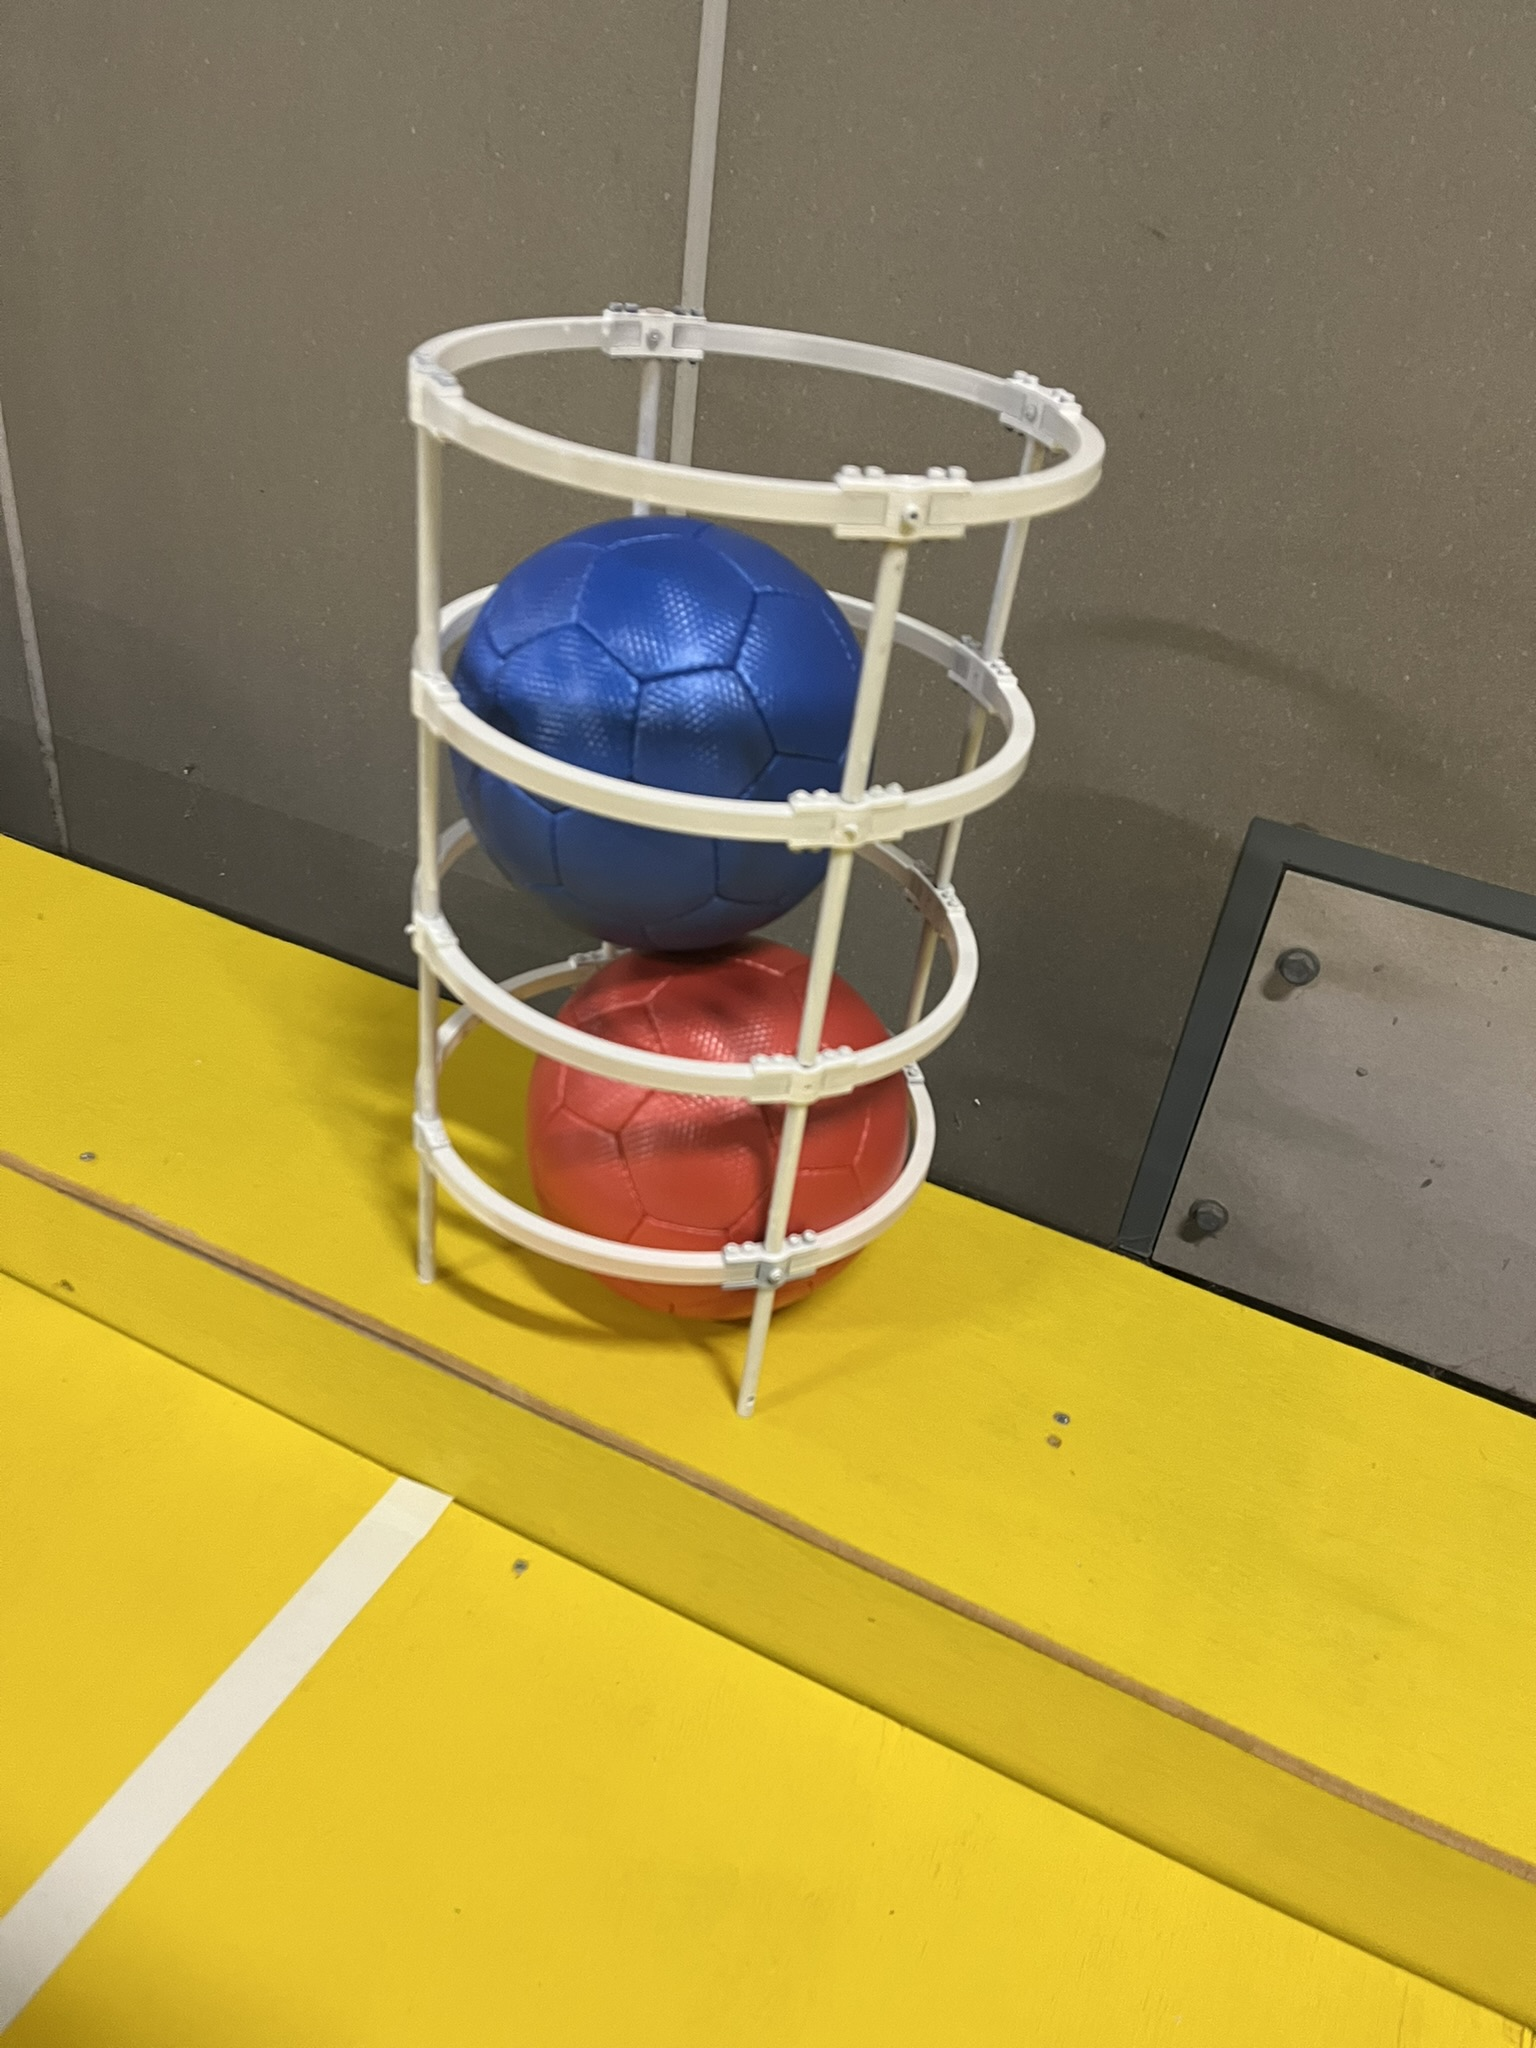blue: (436, 463, 915, 958)
